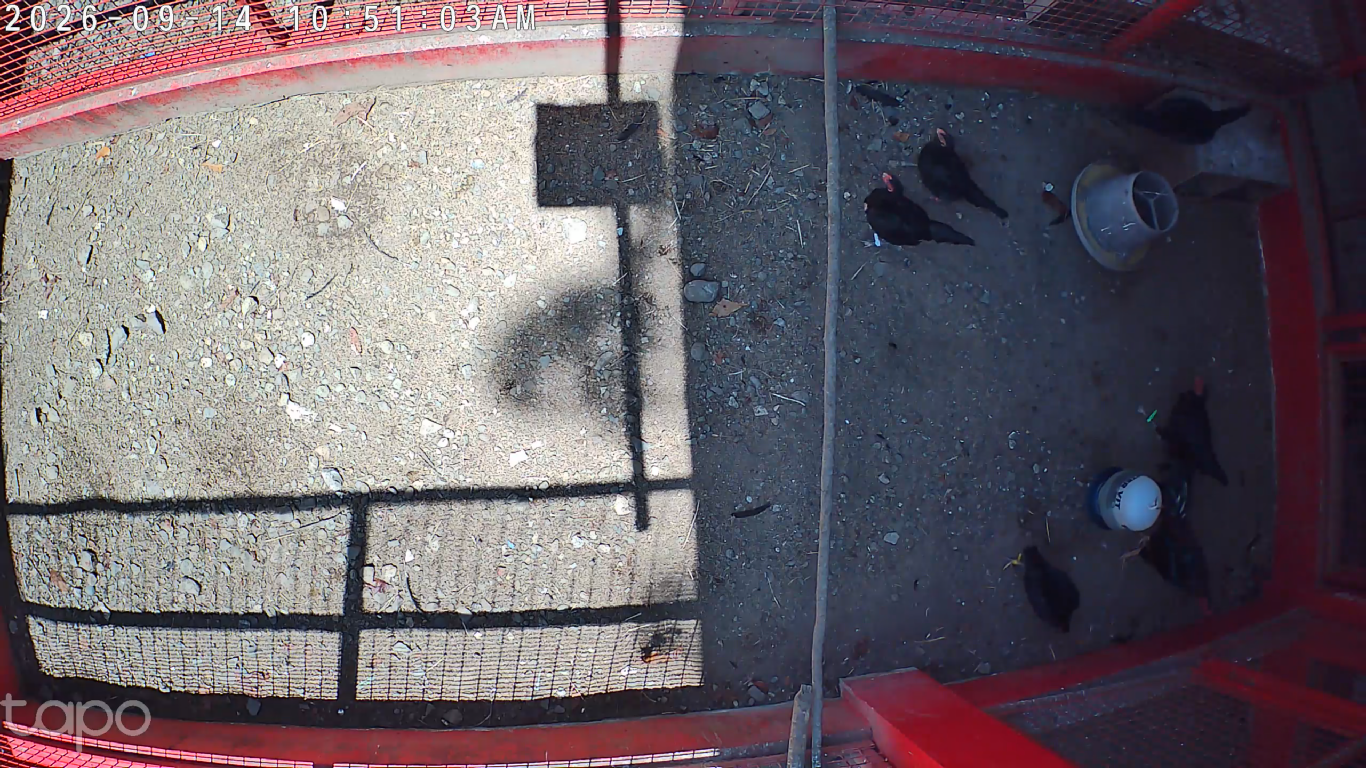Chicken: (1133, 373, 1231, 489), (856, 169, 977, 258), (916, 126, 1008, 222), (1003, 547, 1083, 636)
Leg_Band_Green: (1145, 408, 1159, 423)
Leg_Band_White: (872, 232, 882, 247)
Leg_Band_Yellow: (1013, 552, 1023, 565)
